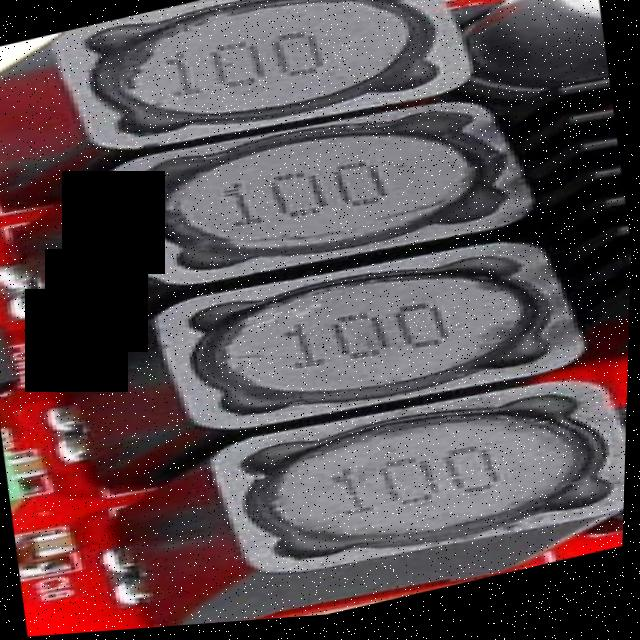capacitor 1V5: (27, 522, 107, 586), (15, 451, 58, 488)
inductor F1: (128, 357, 631, 632), (30, 69, 553, 329), (72, 217, 575, 487), (0, 0, 488, 197)
